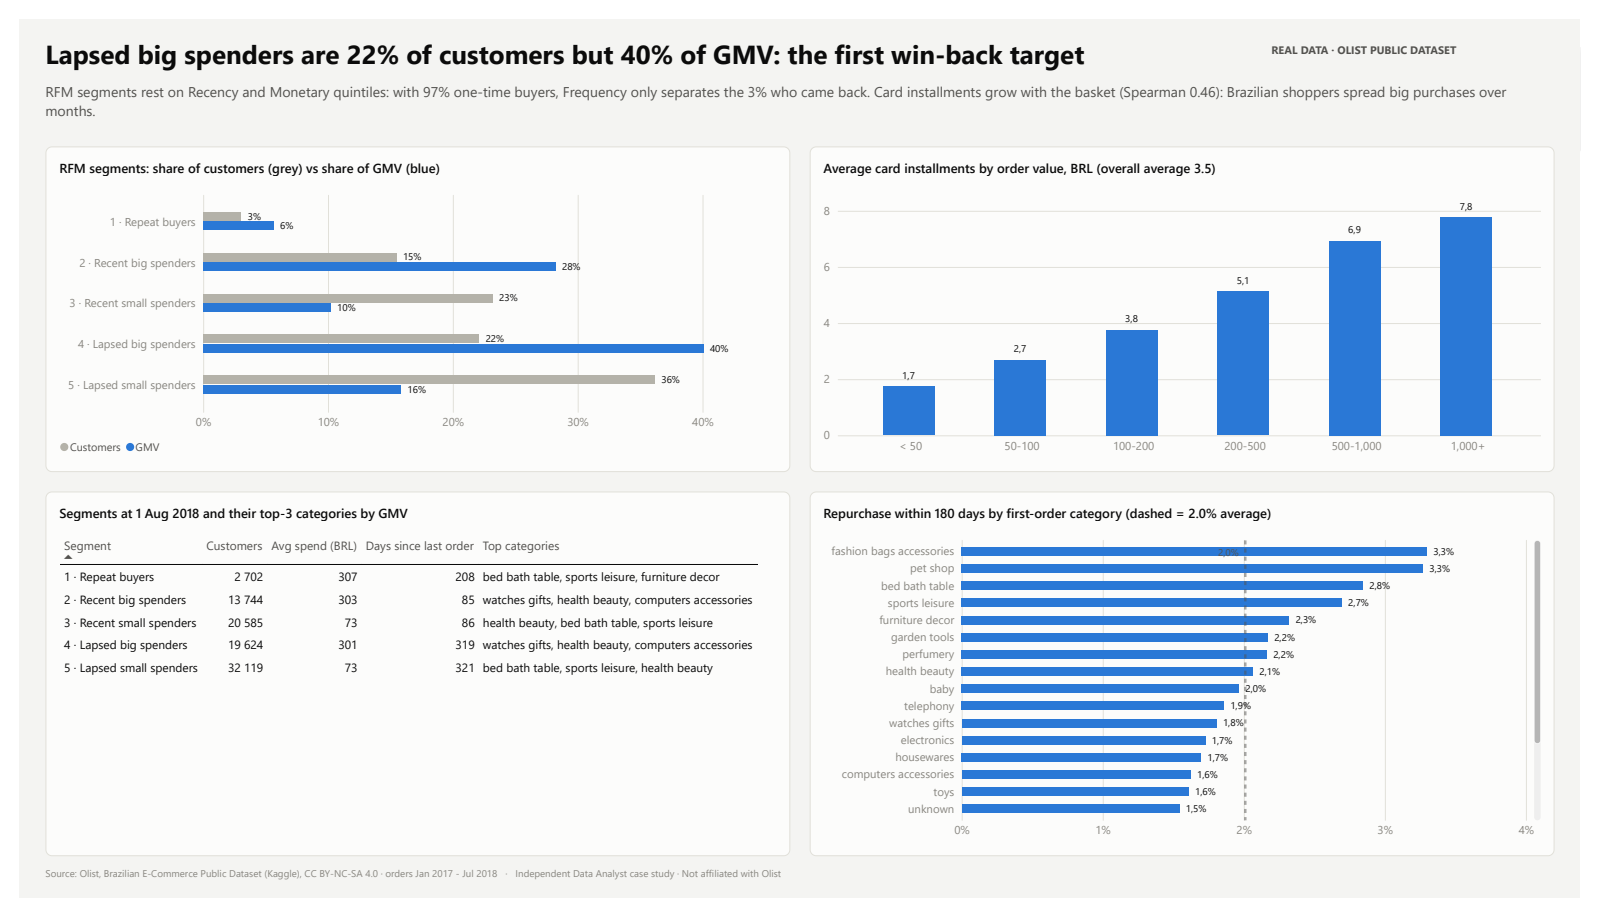

The page's visual inventory and layout, read from the dashboard file:
{"tool":"powerbi","page":{"name":"4 · Customers & basket","canvas":[1920,1080],"ordinal":4},"visuals":[{"type":"textbox","box":[32,20,1500,56],"z":1000},{"type":"textbox","box":[1540,28,348,40],"z":2000},{"type":"textbox","box":[32,76,1856,64],"z":3000},{"type":"clusteredBarChart","title":"RFM segments: share of customers (grey) vs share of GMV (blue)","fields":{"Category":["RFM Segments.segment"],"Y":["_Measures.Segment Customer Share","_Measures.Segment GMV Share"]},"box":[32,156,916,400],"z":4000},{"type":"clusteredColumnChart","title":"Average card installments by order value, BRL (overall average 3.5)","fields":{"Category":["Installments.value_band"],"Y":["_Measures.Installments by Value Band"]},"box":[972,156,916,400],"z":5000},{"type":"tableEx","title":"Segments at 1 Aug 2018 and their top-3 categories by GMV","fields":{"Values":["RFM Segments.segment","RFM Segments.customers","RFM Segments.avg_spend","RFM Segments.avg_recency_days","RFM Segments.top_categories"]},"box":[32,580,916,448],"z":6000},{"type":"clusteredBarChart","title":"Repurchase within 180 days by first-order category (dashed = 2.0% average)","fields":{"Category":["Category Repurchase.category"],"Y":["_Measures.Category Repurchase Rate"]},"box":[972,580,916,448],"z":7000},{"type":"textbox","box":[32,1040,1856,32],"z":8000}]}

Visuals, with their boxes in screenshot pixels (x1, y1, x2, y2), scaled from the page's 1920x1080 canvas onto the 1600x918 screenshot:
textbox: region(27, 17, 1277, 65)
textbox: region(1283, 24, 1573, 58)
textbox: region(27, 65, 1573, 119)
"RFM segments: share of customers (grey) vs share of GMV (blue)" clusteredBarChart: region(27, 133, 790, 473)
"Average card installments by order value, BRL (overall average 3.5)" clusteredColumnChart: region(810, 133, 1573, 473)
"Segments at 1 Aug 2018 and their top-3 categories by GMV" tableEx: region(27, 493, 790, 874)
"Repurchase within 180 days by first-order category (dashed = 2.0% average)" clusteredBarChart: region(810, 493, 1573, 874)
textbox: region(27, 884, 1573, 911)
